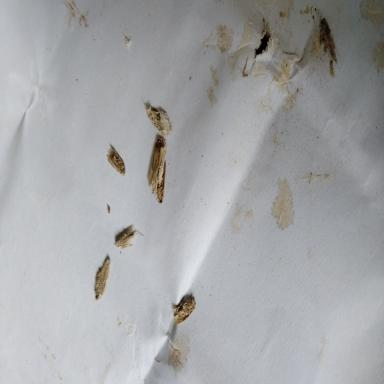pbw: (148, 136, 166, 194), (146, 106, 174, 136), (112, 224, 144, 248), (94, 258, 111, 300), (173, 297, 196, 324), (106, 148, 125, 175), (155, 159, 166, 204)
